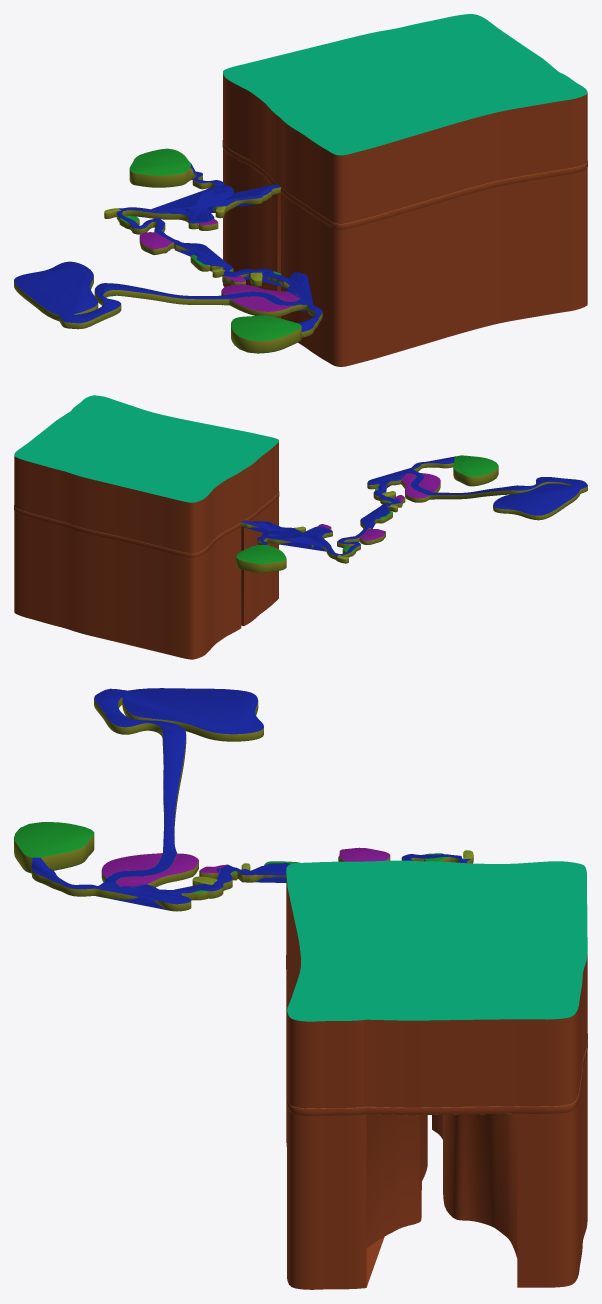
File: Dungeon-World-Whitebox-Draft-2.fbx
3 renders of one model, top to bottom at view 1: azimuth 30°, elevation 25°; view 2: azimuth 150°, elevation 25°; view 3: azimuth 270°, elevation 25°, orthographic. The views are drawn at different scales.
Parts seen in each view (by area): view 1: Dungeon Draft 2 Final; view 2: Dungeon Draft 2 Final; view 3: Dungeon Draft 2 Final.
Part boxes in pixels (x1=…): Dungeon Draft 2 Final: x1=14, y1=14, x2=587, y2=366; Dungeon Draft 2 Final: x1=14, y1=395, x2=587, y2=659; Dungeon Draft 2 Final: x1=14, y1=688, x2=587, y2=1289.
Size of the model in its own units: 36704 by 12350 by 23950.
